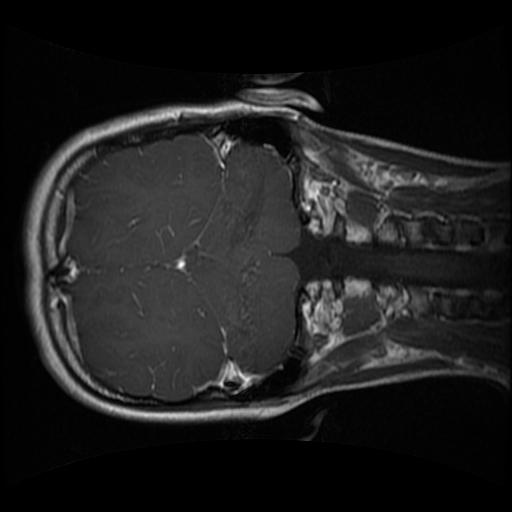glioma: (228, 172, 266, 247)
